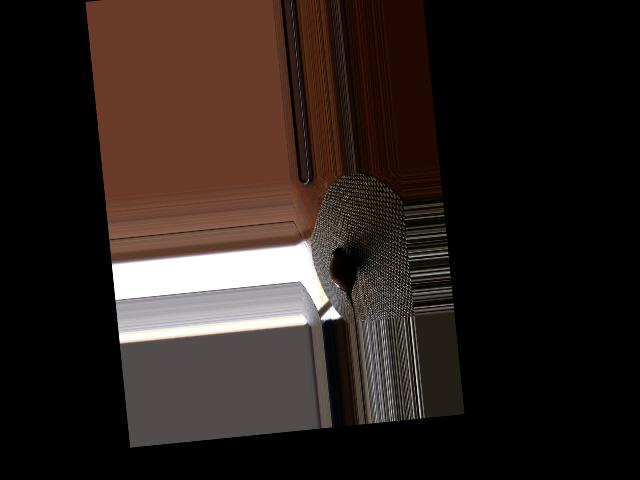beet: (327, 245, 361, 324)
